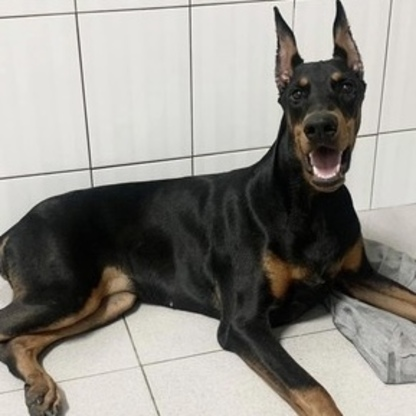doberman: (3, 7, 416, 407)
